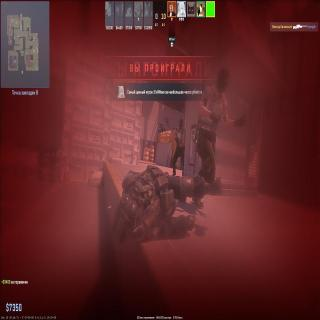CT-Head: (115, 184, 144, 240)
T-Body: (196, 68, 236, 188), (172, 117, 186, 177)
T-Head: (215, 67, 231, 93), (177, 117, 185, 130)
